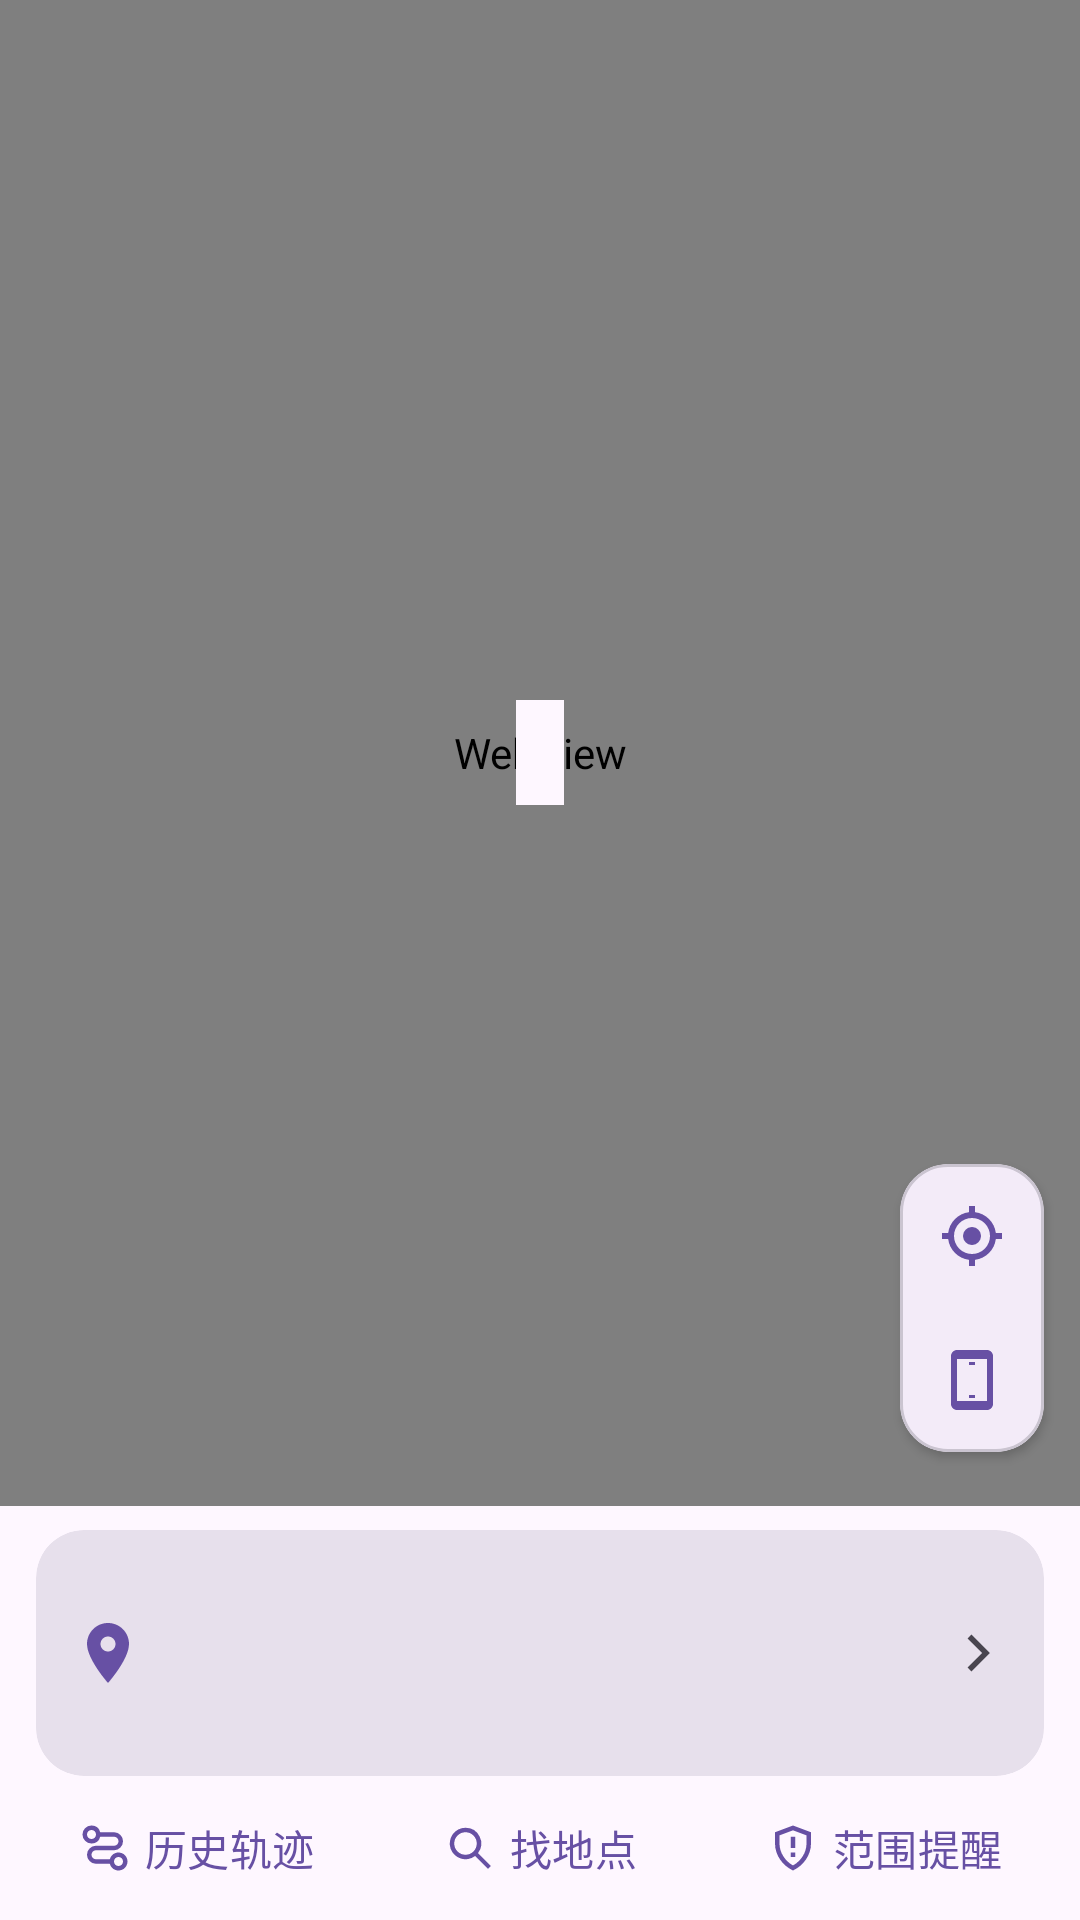

Point at icon controls on the screen. Image size 1080 x 1920, points as point (x, y).
location chevron: point (978, 1653)
location pin: point (108, 1653)
